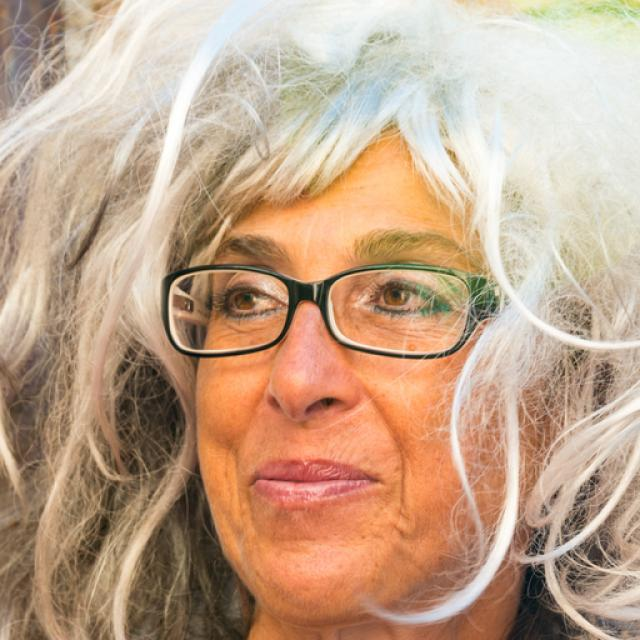disgust: (193, 177, 516, 622)
